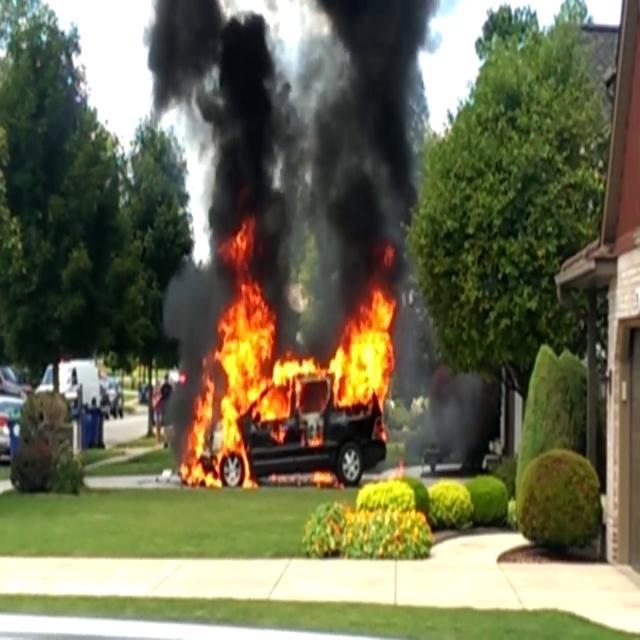Fire: (181, 215, 397, 489)
Smoke: (147, 0, 441, 369)
